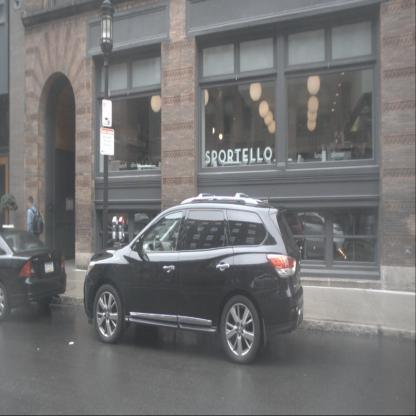human-pedestrian-adult: (27, 196, 44, 280), (131, 123, 149, 172), (364, 112, 374, 167)
vehicle-car: (83, 192, 304, 365), (0, 227, 67, 321), (285, 211, 345, 259)
